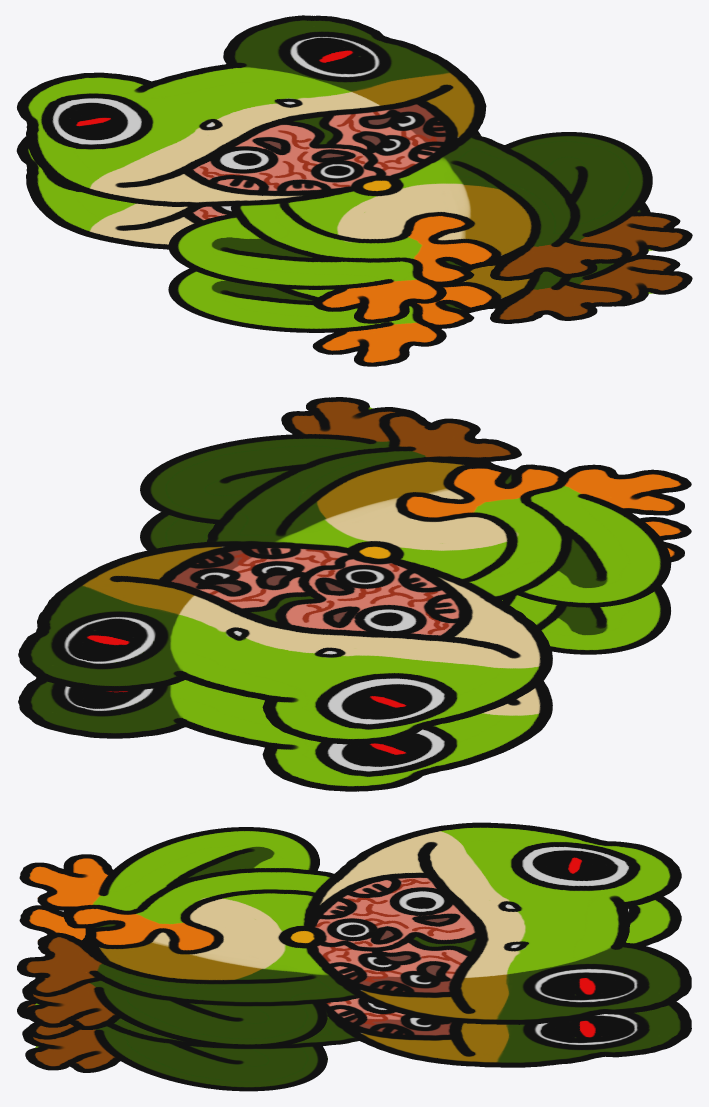
Rendered from Froght.fbx.
The picture shows the model from 3 angles, top to bottom: view 1: azimuth 30°, elevation 25°; view 2: azimuth 150°, elevation 25°; view 3: azimuth 270°, elevation 25°; orthographic projection. The views are drawn at different scales.
Parts seen in each view (by area): view 1: Froght; view 2: Froght; view 3: Froght.
Boxes of the visible parts, x1,y1,x2,y2 form: Froght: [16, 15, 692, 366]; Froght: [18, 397, 691, 791]; Froght: [17, 822, 691, 1091].
Size of the model in its own units: 574 by 50 by 722.
